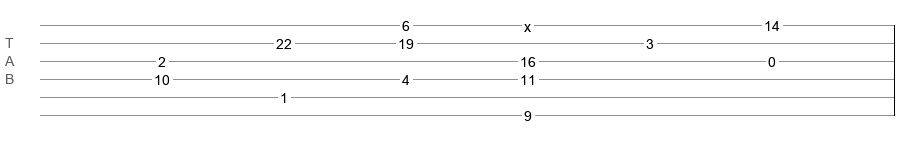0: (768, 54, 776, 64)
1: (280, 90, 288, 100)
10: (154, 72, 170, 82)
11: (520, 72, 536, 82)
14: (764, 18, 780, 28)
16: (520, 54, 536, 64)
19: (398, 36, 414, 46)
2: (158, 54, 166, 64)
22: (276, 36, 292, 46)
3: (646, 36, 654, 46)
4: (402, 72, 410, 82)
6: (402, 18, 410, 28)
9: (524, 108, 532, 118)
x: (524, 19, 531, 27)
